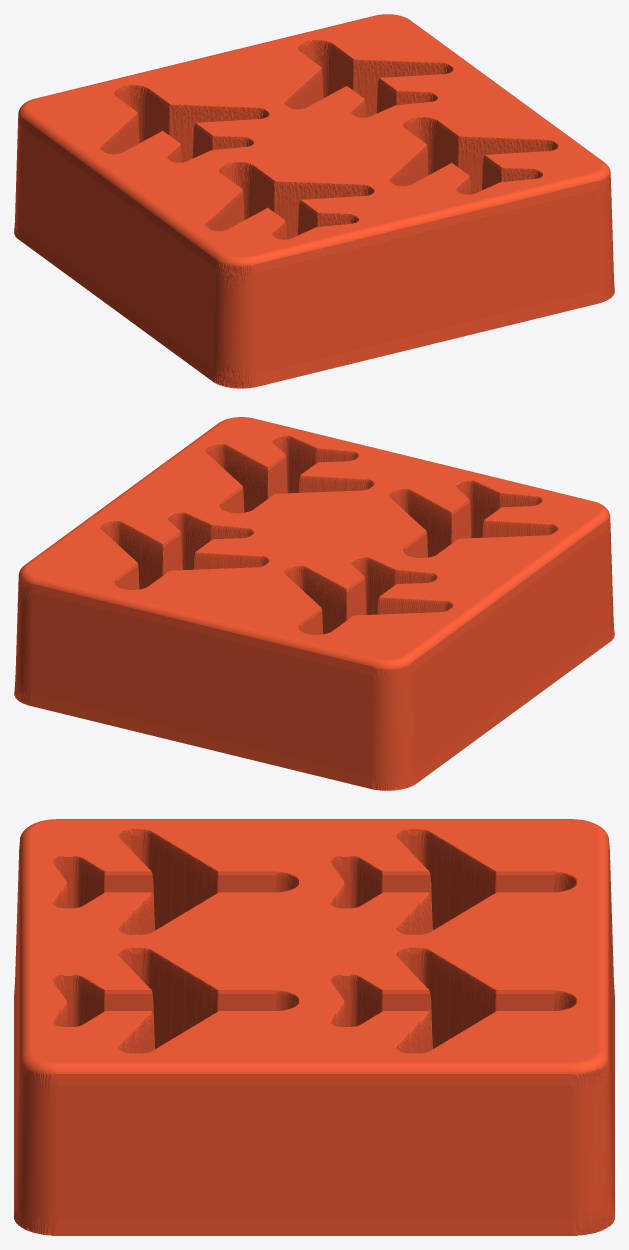
Rendered from mold.glb.
The picture shows the model from 3 angles, top to bottom: view 1: azimuth 30°, elevation 25°; view 2: azimuth 150°, elevation 25°; view 3: azimuth 270°, elevation 25°; orthographic projection. The views are drawn at different scales.
Visible parts, largest first — view 1: geometry_0; view 2: geometry_0; view 3: geometry_0.
Boxes of the visible parts, x1,y1,x2,y2 form: geometry_0: (14,14,614,388); geometry_0: (14,417,614,790); geometry_0: (14,819,614,1235).
Bounding box in the file's own units: 0.1248 × 0.0377 × 0.1235.
